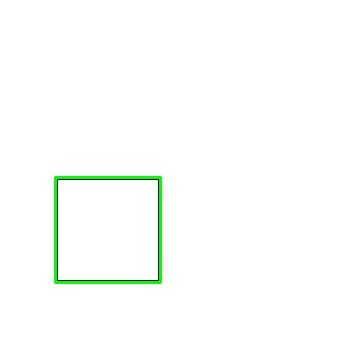line_segment: (54, 176, 162, 283)
